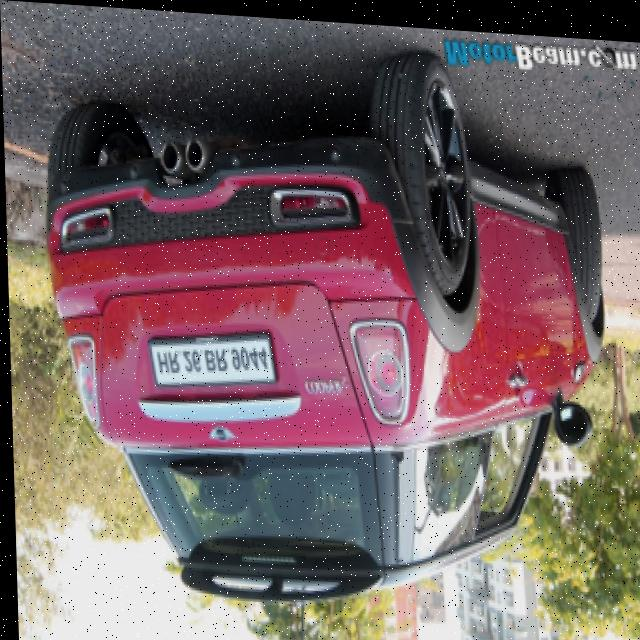plate: (146, 319, 277, 396)
